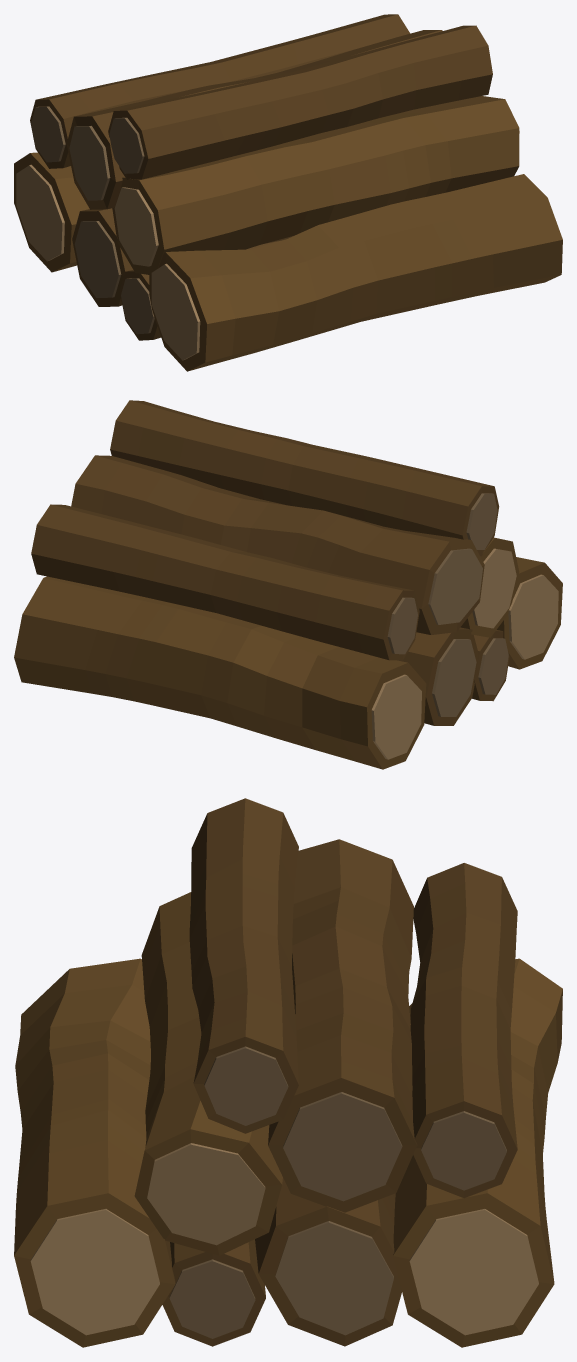
The model's file is Logs.fbx.
The picture shows the model from 3 angles, top to bottom: view 1: azimuth 30°, elevation 25°; view 2: azimuth 150°, elevation 25°; view 3: azimuth 270°, elevation 25°; orthographic projection. The views are drawn at different scales.
Parts seen in each view (by area): view 1: Logs; view 2: Logs; view 3: Logs.
Part boxes in pixels (x1,y1,x2,y2): Logs: (14,14,562,371); Logs: (14,400,562,769); Logs: (14,798,562,1347).
Bounding box in the file's own units: 2.15 × 1.21 × 1.95.
